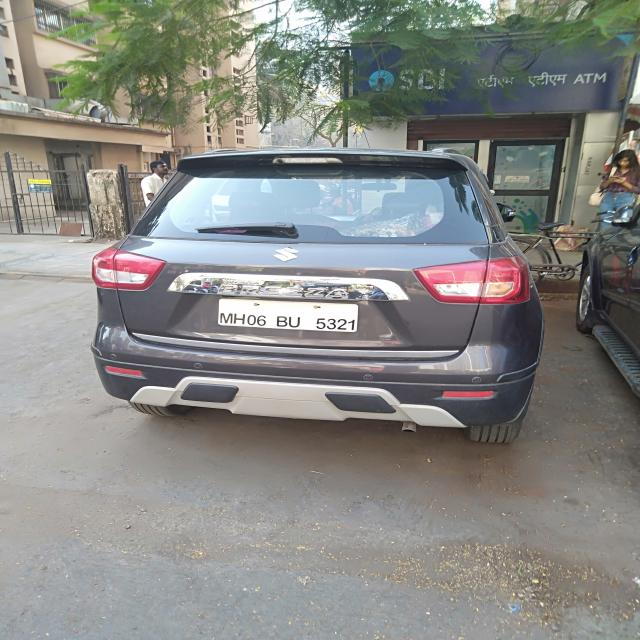Number-Plate: (220, 300, 355, 334)
